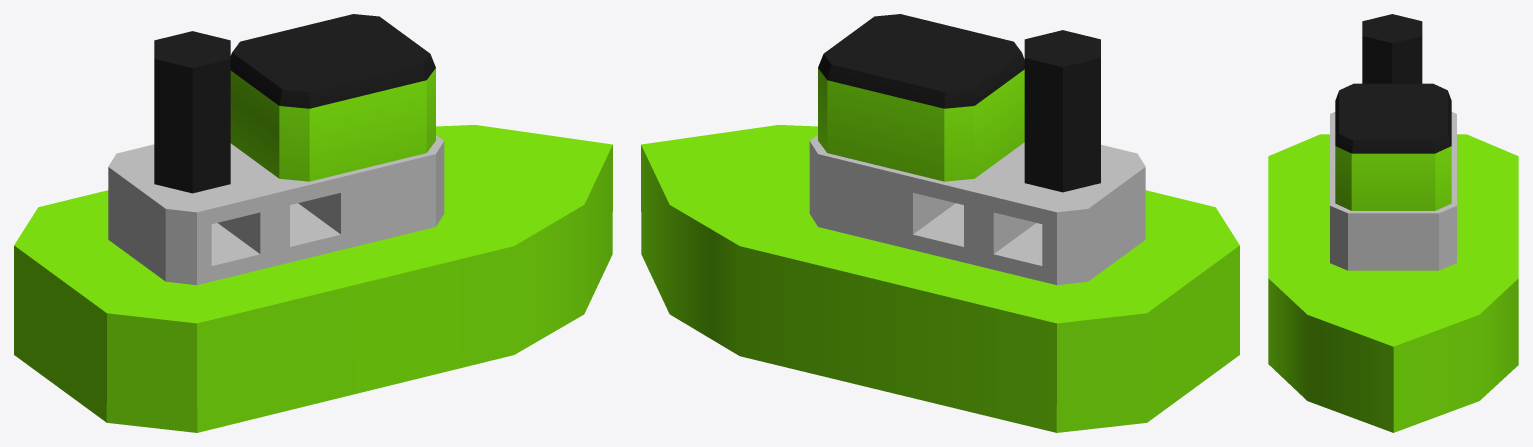
Rendered from Boat_C.FBX.
The picture shows the model from 3 angles, left to right: view 1: azimuth 30°, elevation 25°; view 2: azimuth 150°, elevation 25°; view 3: azimuth 270°, elevation 25°; orthographic projection. The views are drawn at different scales.
Visible parts, largest first — view 1: Boat; view 2: Boat; view 3: Boat.
Boxes of the visible parts, bbox=[...] form: Boat: bbox=[14, 14, 612, 432]; Boat: bbox=[641, 14, 1239, 432]; Boat: bbox=[1268, 14, 1518, 432].
Bounding box in the file's own units: 119 × 63.46 × 59.25.
